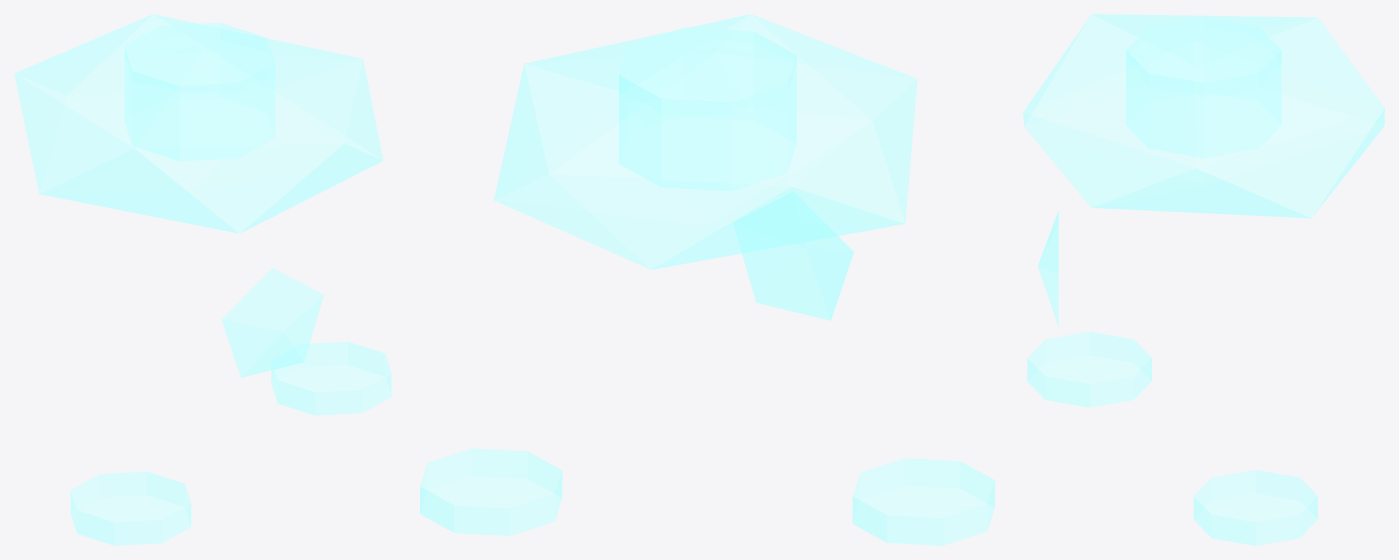
The model's file is GH_Currency_MoneyBag.fbx.
The picture shows the model from 3 angles, left to right: view 1: azimuth 30°, elevation 25°; view 2: azimuth 150°, elevation 25°; view 3: azimuth 270°, elevation 25°; orthographic projection. The views are drawn at different scales.
Parts seen in each view (by area): view 1: SM_Currency_MoneyBag; view 2: SM_Currency_MoneyBag; view 3: SM_Currency_MoneyBag.
Boxes of the visible parts, <box> form: SM_Currency_MoneyBag: <box>14,14,391,545</box>; SM_Currency_MoneyBag: <box>420,14,994,545</box>; SM_Currency_MoneyBag: <box>1023,14,1384,545</box>.
Size of the model in its own units: 0.87 by 0.8504 by 0.6972.
